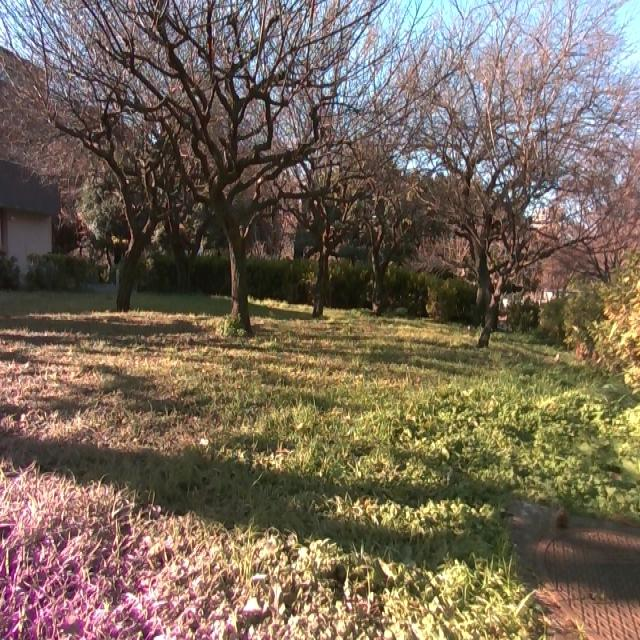artifact: (0, 152, 58, 285)
bush: (539, 263, 640, 401)
tree: (121, 0, 341, 340), (405, 33, 557, 348), (54, 114, 172, 316), (285, 97, 357, 319), (357, 114, 411, 323)
